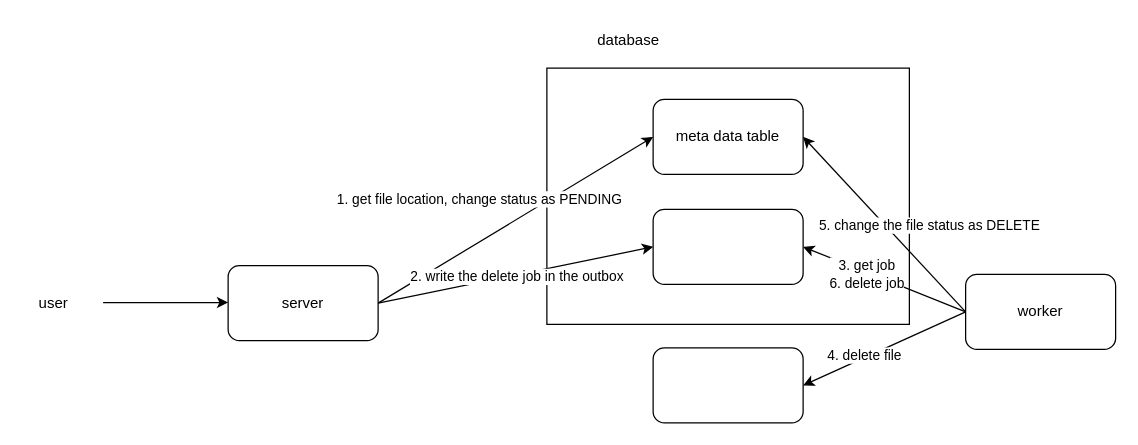
Some shapes in this 1138 by 445 pixel diagram are drawn without their labels. Here are the shapes that lost their labels. From the top down, the box of each, then its label:
(652, 208, 803, 284): outbox table
(652, 347, 803, 423): file system
